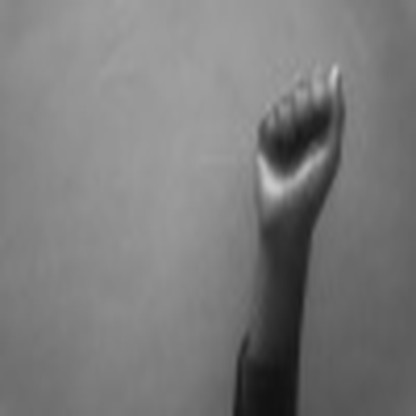a: (242, 61, 351, 247)
